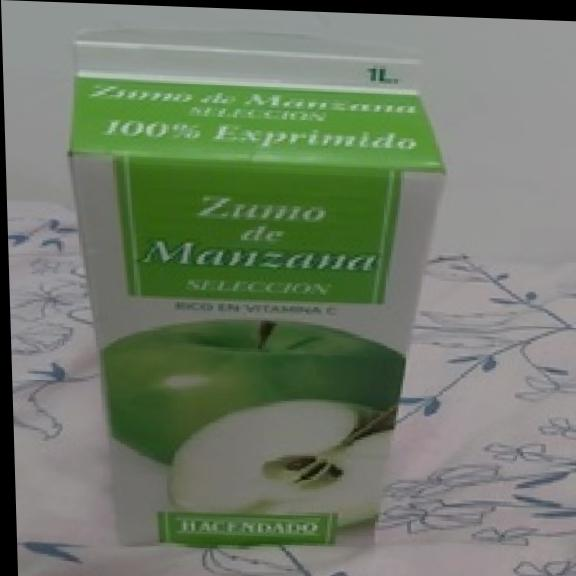Kertas: (71, 34, 444, 545)
